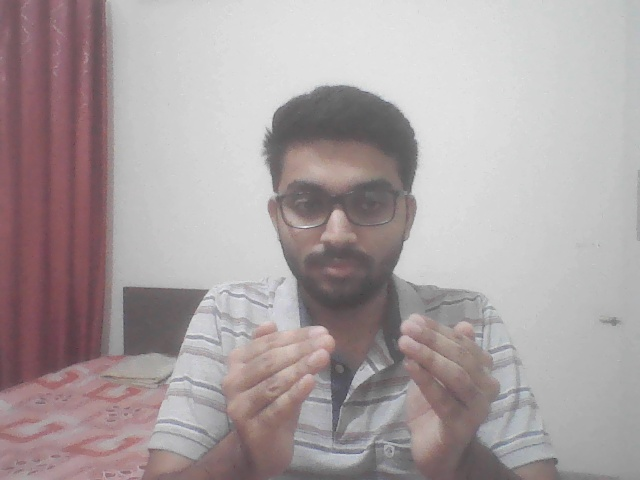small: (199, 311, 520, 475)
